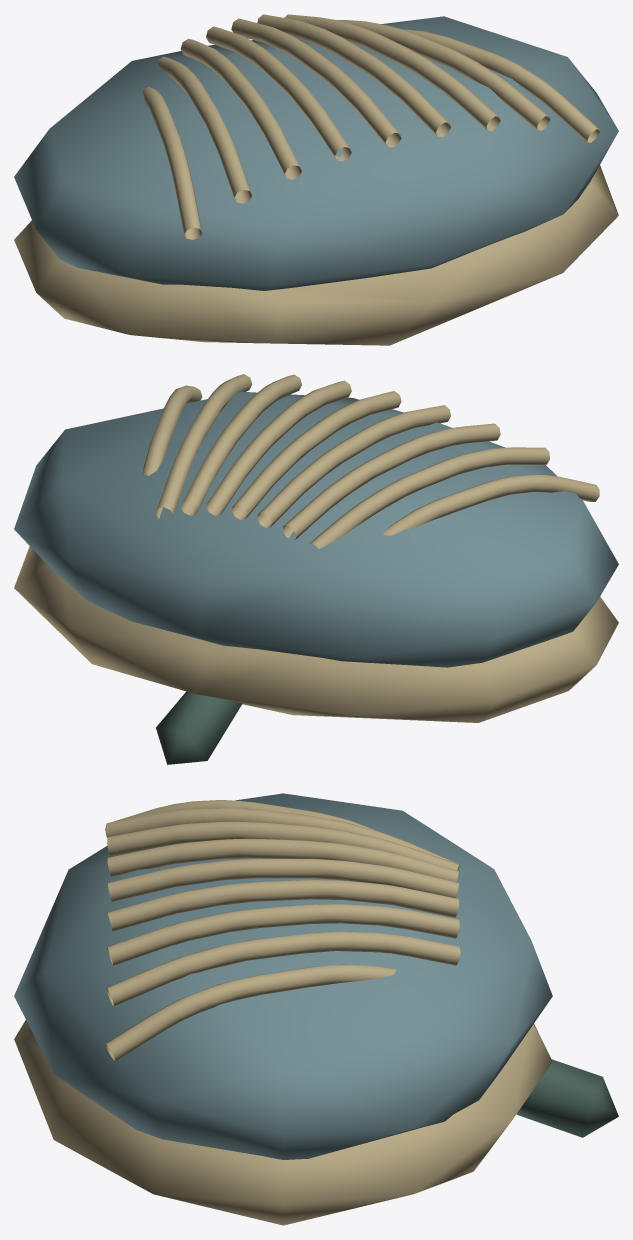
The model's file is org_platystrophia.glb.
3 renders of one model, top to bottom at view 1: azimuth 30°, elevation 25°; view 2: azimuth 150°, elevation 25°; view 3: azimuth 270°, elevation 25°, orthographic. The views are drawn at different scales.
Parts seen in each view (by area): view 1: Body; view 2: Body; view 3: Body.
Boxes of the visible parts, bbox=[...] form: Body: bbox=[14, 14, 618, 345]; Body: bbox=[14, 374, 618, 764]; Body: bbox=[14, 793, 618, 1225].
Size of the model in its own units: 0.7766 by 0.32 by 0.6457.
